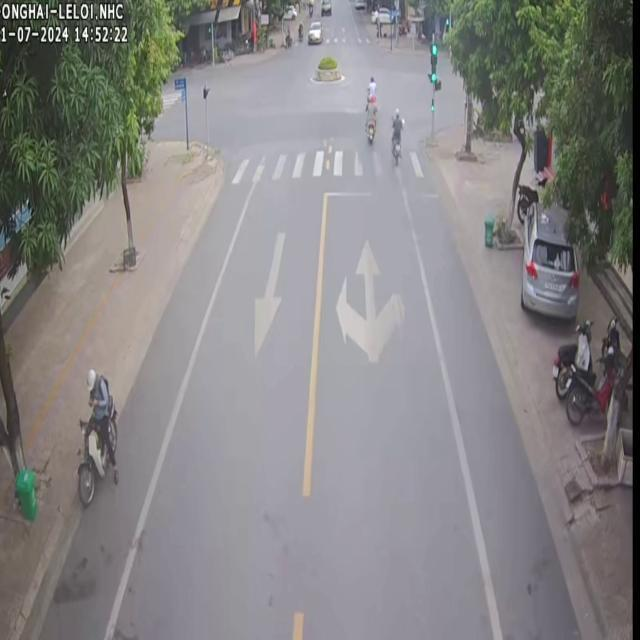car: (519, 194, 578, 318)
green_light: (427, 40, 437, 85)
motobike: (78, 365, 111, 501), (389, 101, 401, 168), (363, 86, 375, 146), (365, 69, 377, 122)
stop_line: (323, 189, 436, 196)
